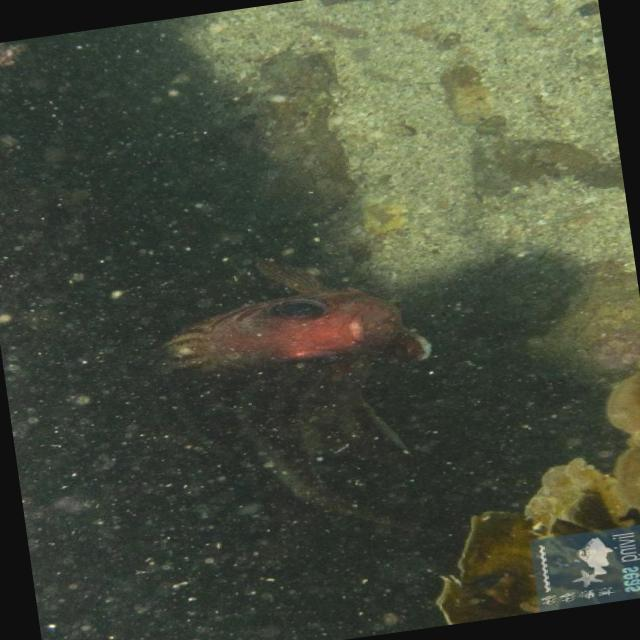Asker Baligi: (86, 226, 442, 462)
